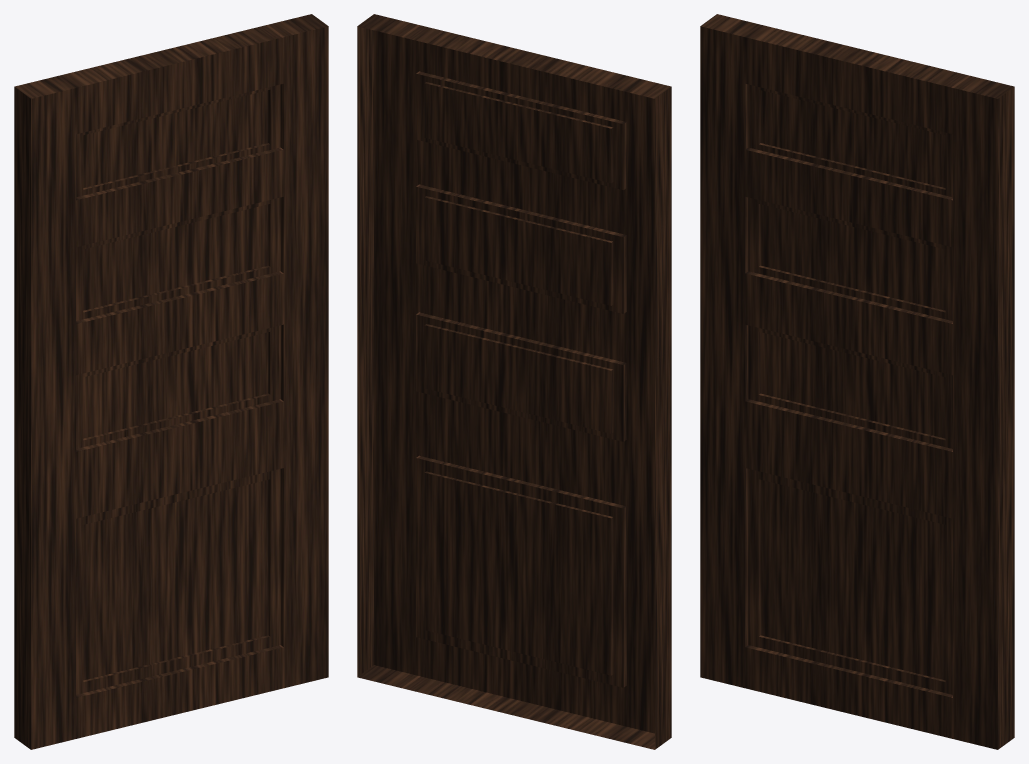
File: Door1_dark.glb
3 views of the same model, side by side, from view 1: azimuth 30°, elevation 25°; view 2: azimuth 150°, elevation 25°; view 3: azimuth 330°, elevation 25° (orthographic).
Parts seen in each view (by area): view 1: Door1_dark; view 2: Door1_dark; view 3: Door1_dark.
Boxes of the visible parts, left/top/right/bottom form: Door1_dark: left=14, top=14, right=328, bottom=749; Door1_dark: left=357, top=14, right=671, bottom=749; Door1_dark: left=700, top=14, right=1014, bottom=749.
Size of the model in its own units: 0.4386 by 0.9169 by 0.0429.
1 material, 1 textured.
